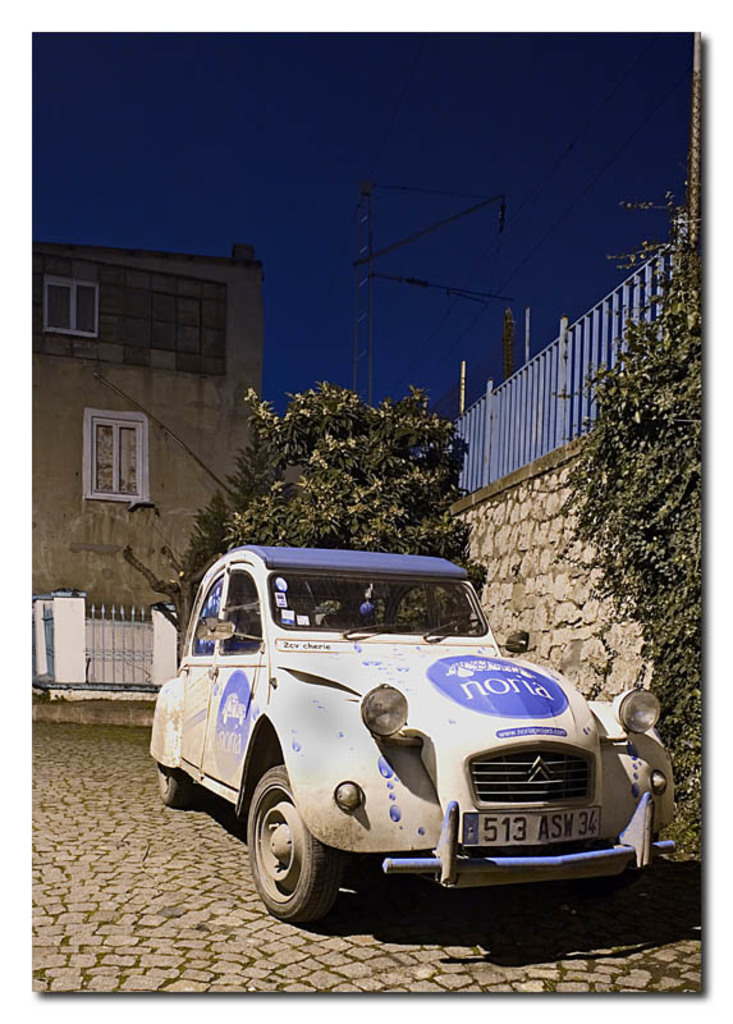Car: (149, 545, 677, 925)
